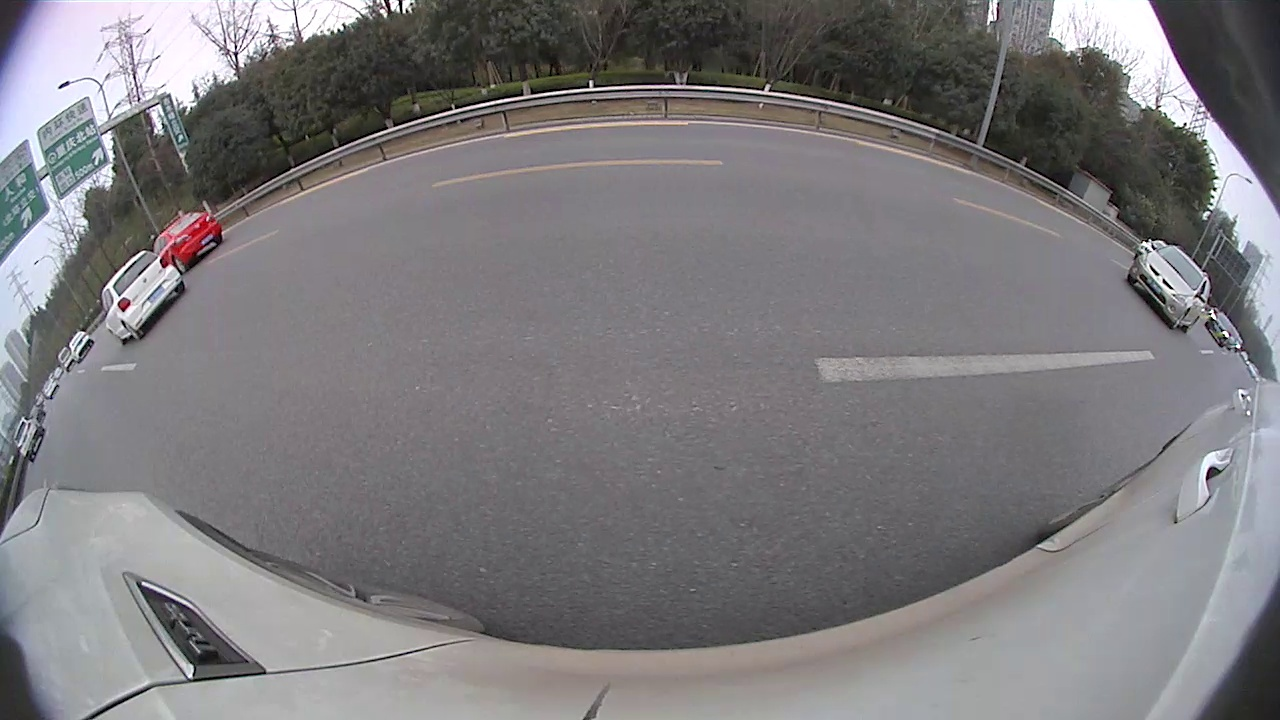car: (100, 248, 186, 344), (1126, 244, 1212, 335), (152, 209, 224, 274), (11, 414, 46, 464), (1204, 310, 1237, 349), (1132, 237, 1167, 265), (68, 329, 95, 363), (56, 345, 79, 374)
front: (1171, 310, 1188, 330)
rear: (123, 322, 141, 341), (172, 256, 187, 274)
